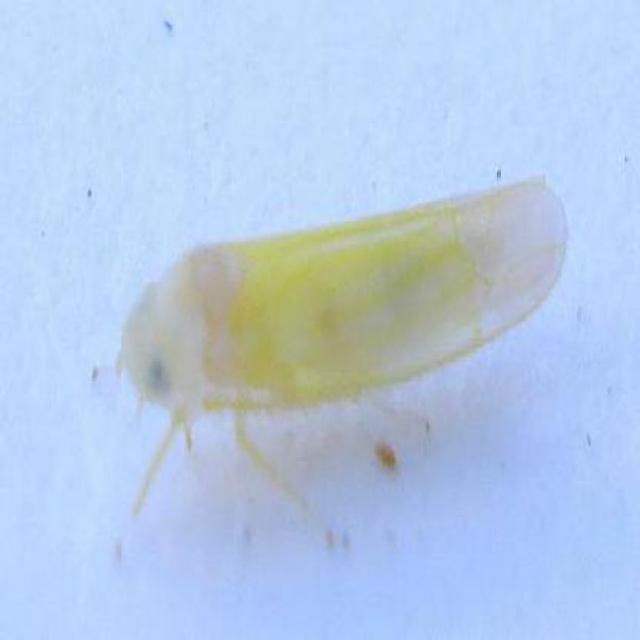green-leafhopper: (116, 177, 566, 536)
